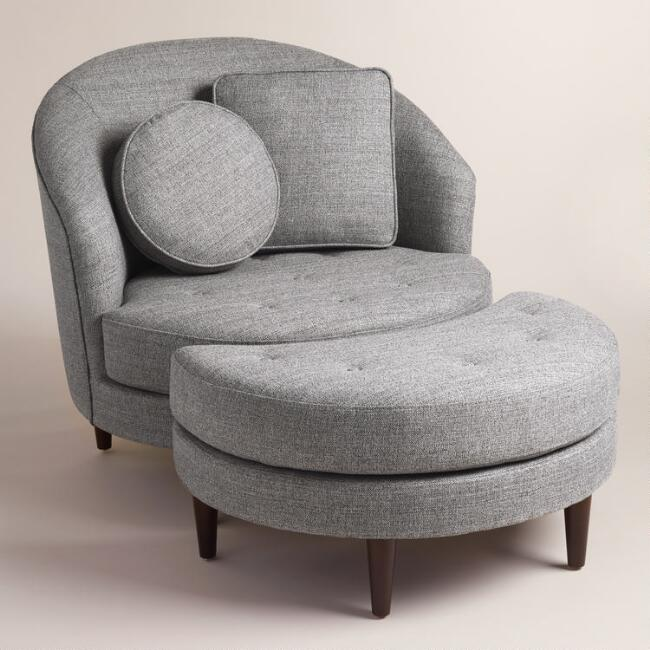chairs: (30, 37, 620, 621)
